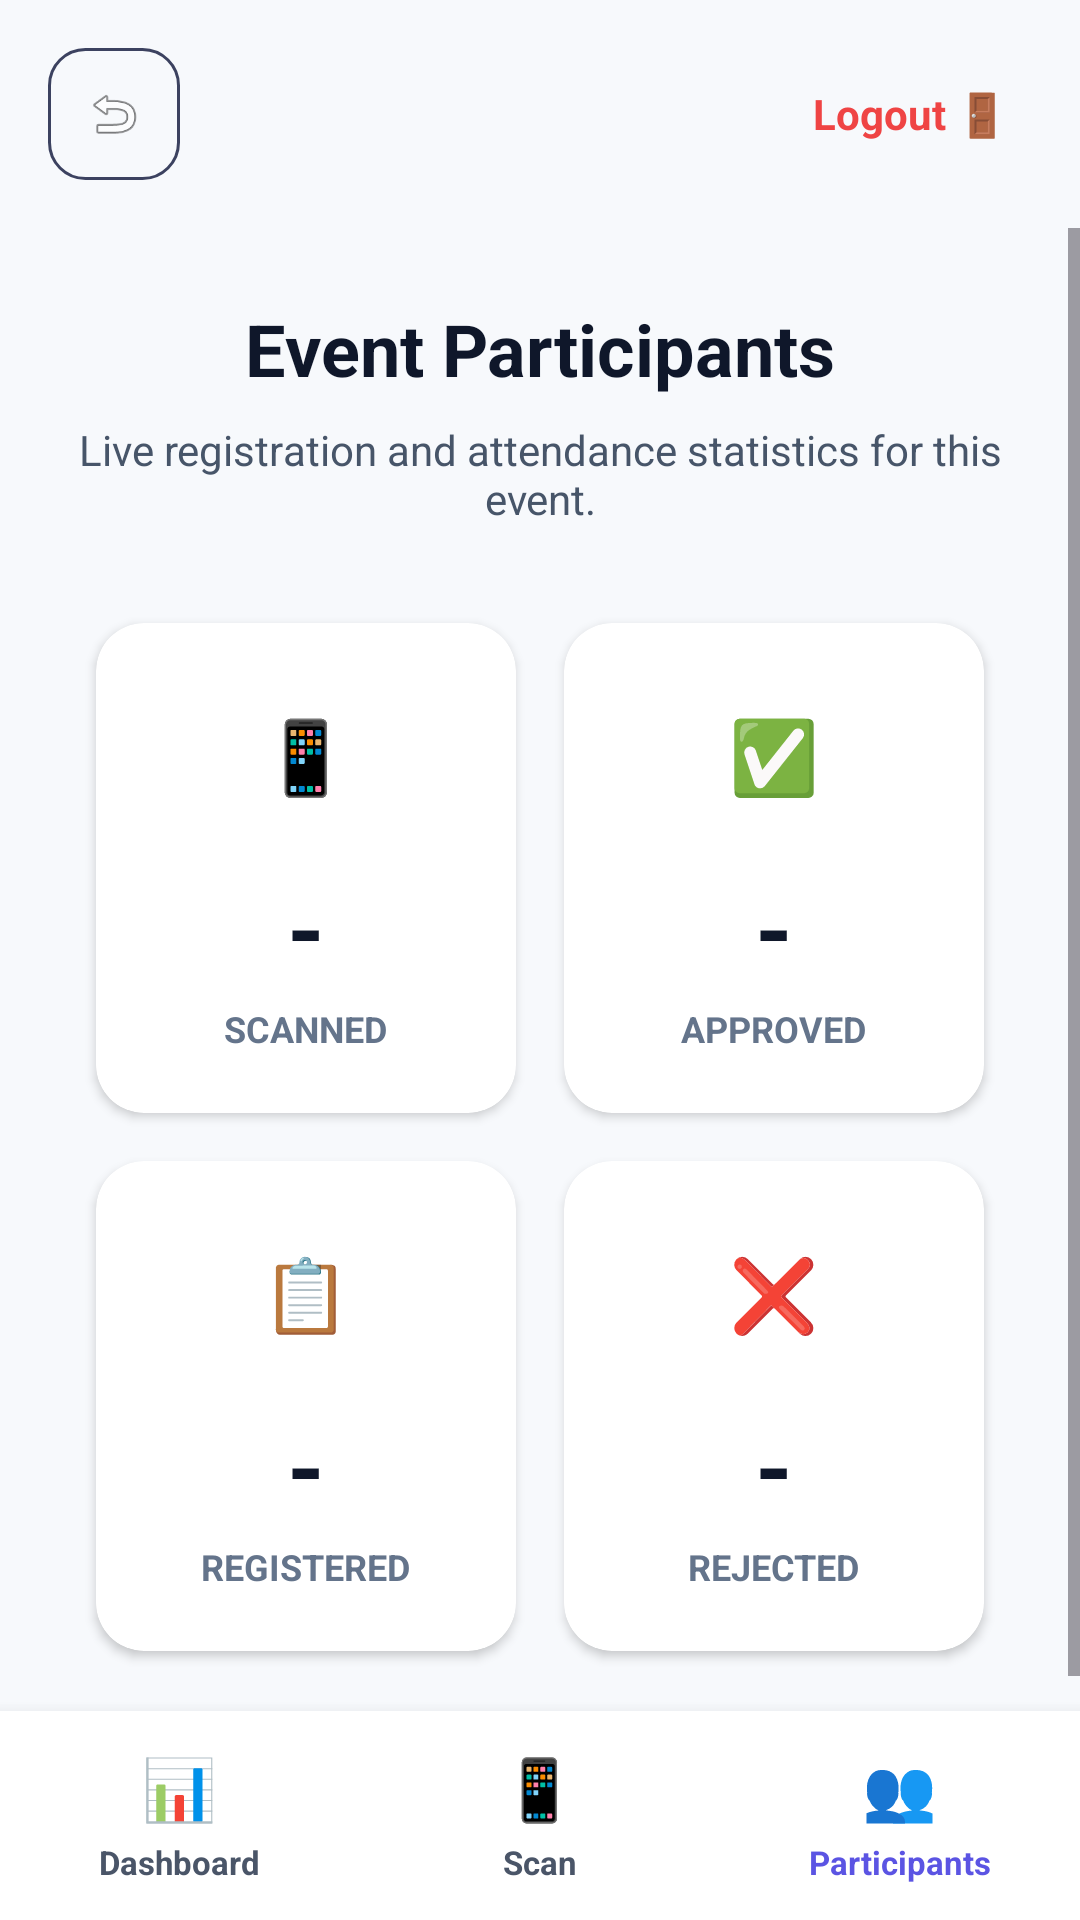

Icons on this 1080×1920 Android screen, each with its box as [left=x1, top=y1, right=x2, bottom=y2]:
revert: [left=48, top=48, right=180, bottom=180]
